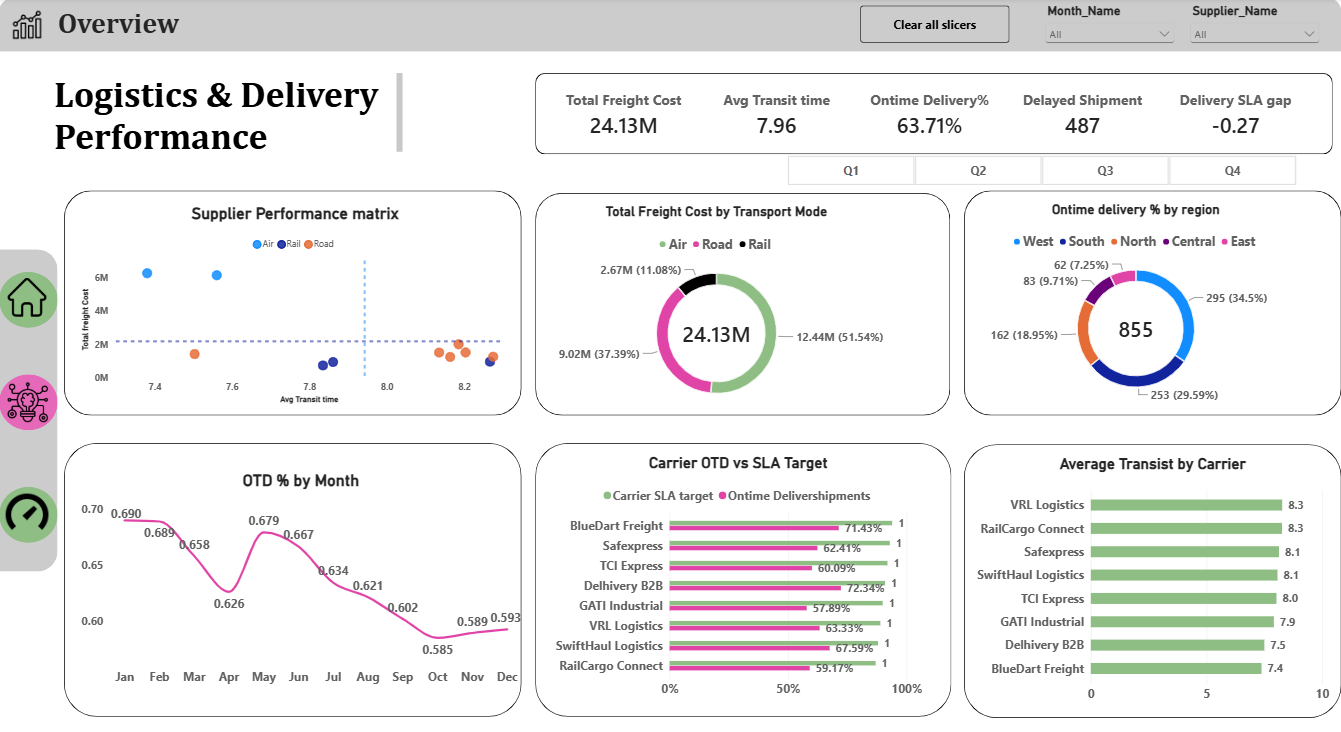

Layout of this report page (visuals, bound fields, positions):
{"tool":"powerbi","page":{"name":"Logistics & Delivery Performance","canvas":[1800,1000],"ordinal":2},"visuals":[{"type":"shape","box":[0,0,1799.6,72.1],"z":0},{"type":"shape","box":[0,336.8,78.8,432.3],"z":1000},{"type":"textbox","box":[78.8,11.7,194.4,48.6],"z":2000},{"type":"image","box":[18.4,0,38.5,72.1],"z":3000},{"type":"textbox","box":[73.7,100.5,467.4,108.4],"z":4000},{"type":"shape","box":[0,367,78.8,75.4],"z":5000},{"type":"shape","box":[0,504.4,78.8,75.4],"z":6000},{"type":"shape","box":[0,655.2,78.8,75.4],"z":7000},{"type":"image","box":[6.7,375.3,62,51.9],"z":8000},{"type":"image","box":[3.4,514.4,70.4,55.3],"z":9000},{"type":"image","box":[0,661.9,75.4,62],"z":10000},{"type":"cardVisual","fields":{"Data":["_Measures3.Total freight Cost","_Measures3.Avg Transit time","_Measures.Ontime Delivershipments","_Measures.Delayed Shipment","_Measures3.Delivery SLA gap"]},"box":[739.3,104.9,1018.4,103.1],"z":11000},{"type":"slicer","fields":{"Values":["Dim_date.Month_Name"]},"box":[1397.5,6.7,183.1,60.4],"z":12000},{"type":"slicer","fields":{"Values":["Dim_Supplier.Supplier_Name"]},"box":[1591.8,6.7,183.1,69.3],"z":13000},{"type":"slicer","fields":{"Values":["Dim_date.Quarter"]},"box":[1037.2,209.5,719.8,42.7],"z":14000},{"type":"clusteredBarChart","title":"Carrier OTD vs SLA Target ","fields":{"Y":["_Measures3.Carrier SLA target","_Measures.Ontime Delivershipments"],"Category":["Dim_Carrier.Carrier_Name"]},"box":[728.9,596.5,524.5,361.9],"z":15000},{"type":"scatterChart","title":"Supplier Performance matrix","fields":{"Category":["Dim_Carrier.Carrier_Name"],"X":["_Measures3.Avg Transit time"],"Y":["_Measures3.Total freight Cost"],"Series":["Fact_Procurement.Transport_Mode"]},"box":[93.8,261.4,606.6,298.3],"z":16000},{"type":"donutChart","title":"Total Freight Cost by Transport Mode","fields":{"Y":["_Measures3.Total freight Cost"],"Category":["Fact_Procurement.Transport_Mode"]},"box":[715.5,261.4,492.6,308.3],"z":17000},{"type":"clusteredBarChart","title":"Average Transist by Carrier","fields":{"Category":["Dim_Carrier.Carrier_Name"],"Y":["_Measures3.Avg Transit time"]},"box":[1293.6,598.2,506,367],"z":18000},{"type":"donutChart","title":"Ontime delivery % by region","fields":{"Category":["Dim_Supplier.Region"],"Y":["_Measures.Ontime Delivered Shipments"]},"box":[1260.1,258,527.8,302.1],"z":19000},{"type":"lineChart","title":"OTD % by Month ","fields":{"Category":["Dim_date.Month_Name"],"Y":["_Measures3.OTD delivery date%"]},"box":[93.8,620,622,321.7],"z":20000},{"type":"shape","box":[718.8,100.5,1069,108.9],"z":21000},{"type":"shape","box":[87.1,258,613.3,301.6],"z":22000},{"type":"shape","box":[87.1,596.5,613.3,367],"z":23000},{"type":"shape","box":[718.8,261.4,556.3,298.3],"z":24000},{"type":"shape","box":[718.8,596.5,558,367],"z":25000},{"type":"shape","box":[1293.6,258,506,301.6],"z":26000},{"type":"shape","box":[1293.6,598.2,506,367],"z":27000},{"type":"actionButton","box":[1154.5,10.1,200,50],"z":28000}]}

Visuals, with their boxes on the page's 1800x1000 design canvas (x1, y1, x2, y2). These are canvas units, not pixel positions in the 1341x732 screenshot, which may show the page scaled, cropped or inside an application window:
shape: detection(0, 0, 1800, 72)
shape: detection(0, 337, 79, 769)
textbox: detection(79, 12, 273, 60)
image: detection(18, 0, 57, 72)
textbox: detection(74, 100, 541, 209)
shape: detection(0, 367, 79, 442)
shape: detection(0, 504, 79, 580)
shape: detection(0, 655, 79, 731)
image: detection(7, 375, 69, 427)
image: detection(3, 514, 74, 570)
image: detection(0, 662, 75, 724)
cardVisual - _Measures3.Total freight Cost x _Measures3.Avg Transit time: detection(739, 105, 1758, 208)
slicer - Dim_date.Month_Name: detection(1398, 7, 1581, 67)
slicer - Dim_Supplier.Supplier_Name: detection(1592, 7, 1775, 76)
slicer - Dim_date.Quarter: detection(1037, 210, 1757, 252)
"Carrier OTD vs SLA Target " clusteredBarChart: detection(729, 596, 1253, 958)
"Supplier Performance matrix" scatterChart: detection(94, 261, 700, 560)
"Total Freight Cost by Transport Mode" donutChart: detection(716, 261, 1208, 570)
"Average Transist by Carrier" clusteredBarChart: detection(1294, 598, 1800, 965)
"Ontime delivery % by region" donutChart: detection(1260, 258, 1788, 560)
"OTD % by Month " lineChart: detection(94, 620, 716, 942)
shape: detection(719, 100, 1788, 209)
shape: detection(87, 258, 700, 560)
shape: detection(87, 596, 700, 964)
shape: detection(719, 261, 1275, 560)
shape: detection(719, 596, 1277, 964)
shape: detection(1294, 258, 1800, 560)
shape: detection(1294, 598, 1800, 965)
actionButton: detection(1154, 10, 1354, 60)
